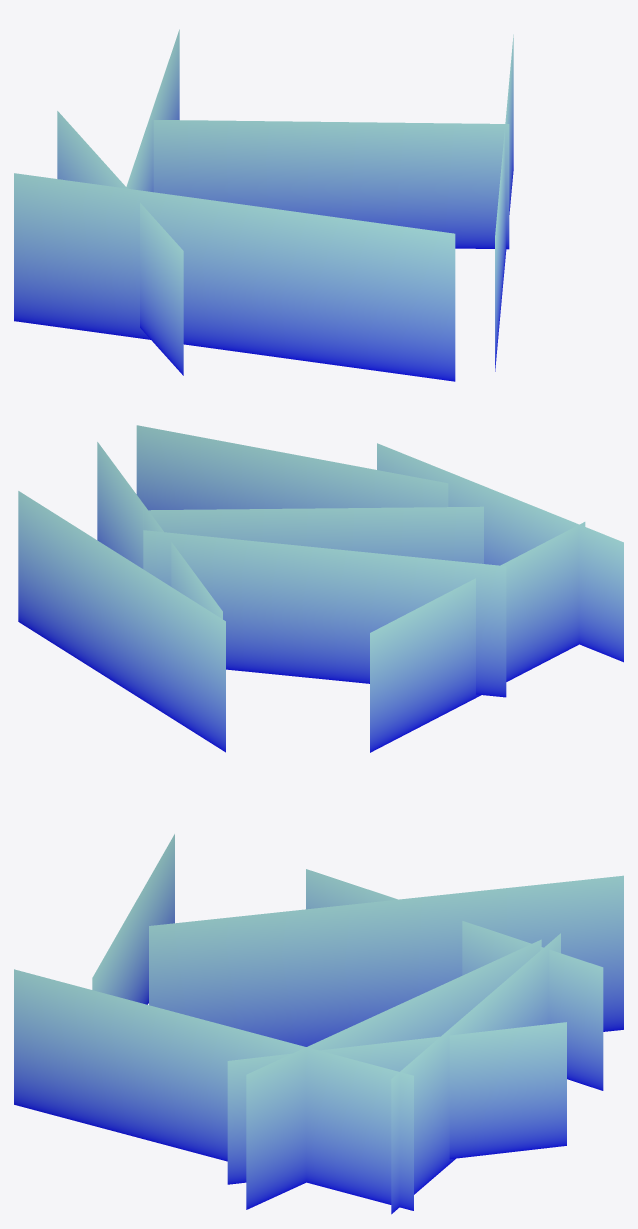
File: SM_Env_Grass_Med_Clump_03.glb
The picture shows the model from 3 angles, top to bottom: view 1: azimuth 30°, elevation 25°; view 2: azimuth 150°, elevation 25°; view 3: azimuth 270°, elevation 25°; orthographic projection. The views are drawn at different scales.
Visible parts, largest first — view 1: SM_Env_Grass_Med_Clump_03_LOD0; view 2: SM_Env_Grass_Med_Clump_03_LOD0; view 3: SM_Env_Grass_Med_Clump_03_LOD0.
Boxes of the visible parts, <box> form: SM_Env_Grass_Med_Clump_03_LOD0: <box>14,29,513,381</box>; SM_Env_Grass_Med_Clump_03_LOD0: <box>18,425,623,752</box>; SM_Env_Grass_Med_Clump_03_LOD0: <box>14,834,623,1214</box>.
Size of what is drawn, in the model's own units: 1.72 by 0.5102 by 1.73.
